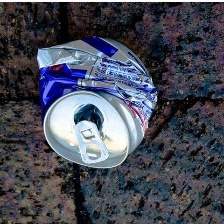can: (33, 31, 163, 171)
